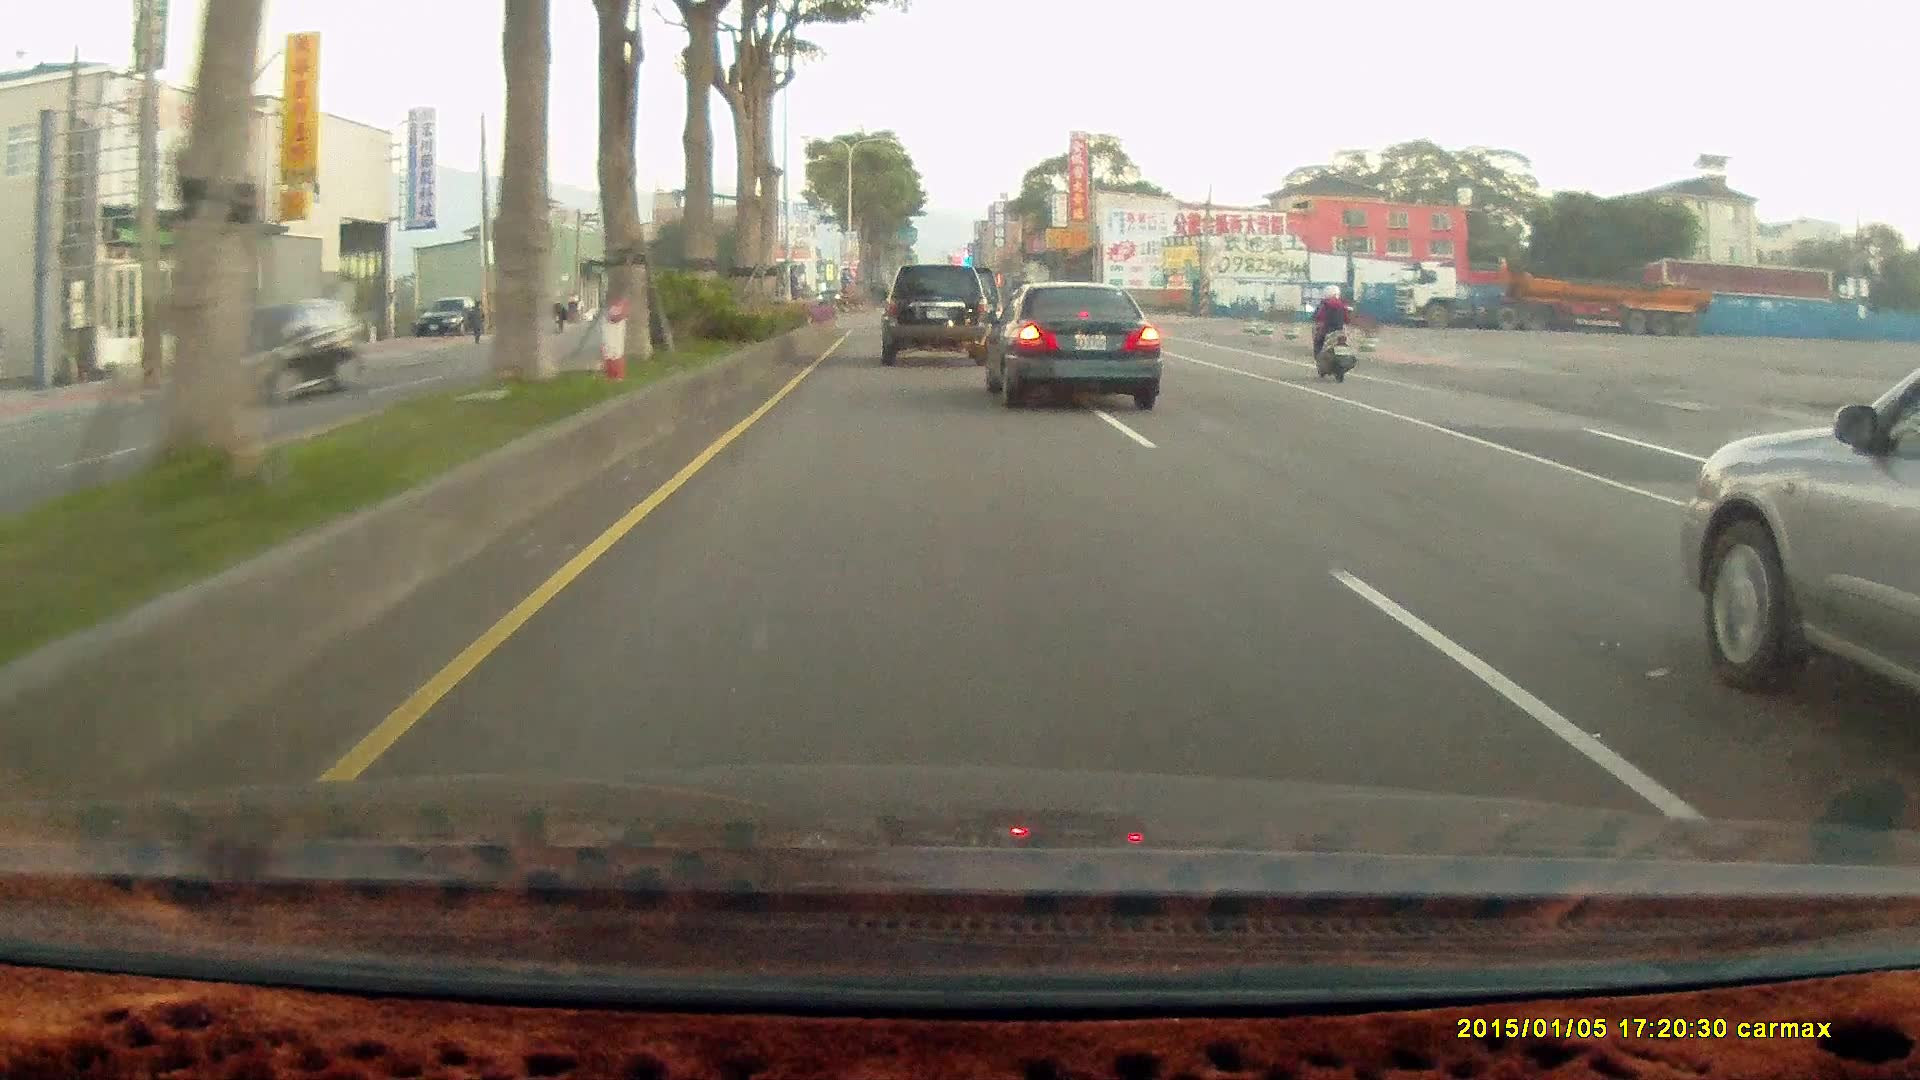pedestrian: (466, 297, 486, 344), (541, 299, 567, 333)
rider: (1298, 276, 1367, 390), (1302, 282, 1356, 380)
vehicle: (1679, 372, 1920, 725), (1390, 262, 1708, 337), (980, 279, 1161, 409), (986, 280, 1162, 403), (174, 297, 365, 409), (880, 262, 1001, 365), (876, 261, 990, 361), (415, 296, 481, 336)
